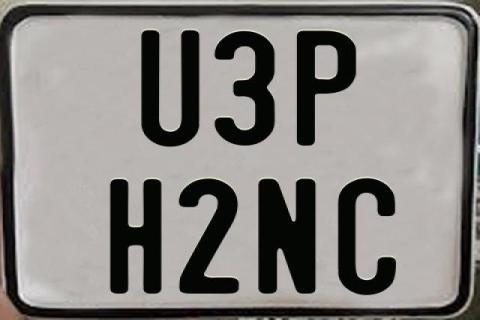0: (212, 29, 279, 144), (179, 178, 241, 298)
C: (336, 177, 395, 297)
H: (107, 177, 159, 296)
N: (255, 177, 314, 293)
P: (295, 28, 359, 144)
U: (138, 29, 199, 149)
